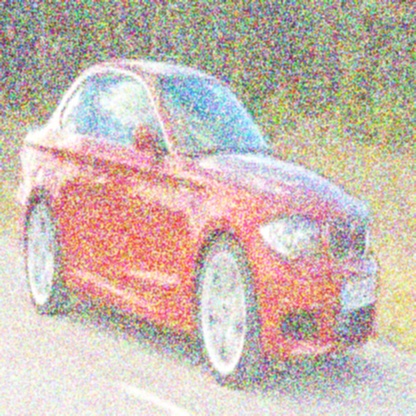Vehicle: (14, 59, 384, 396)
